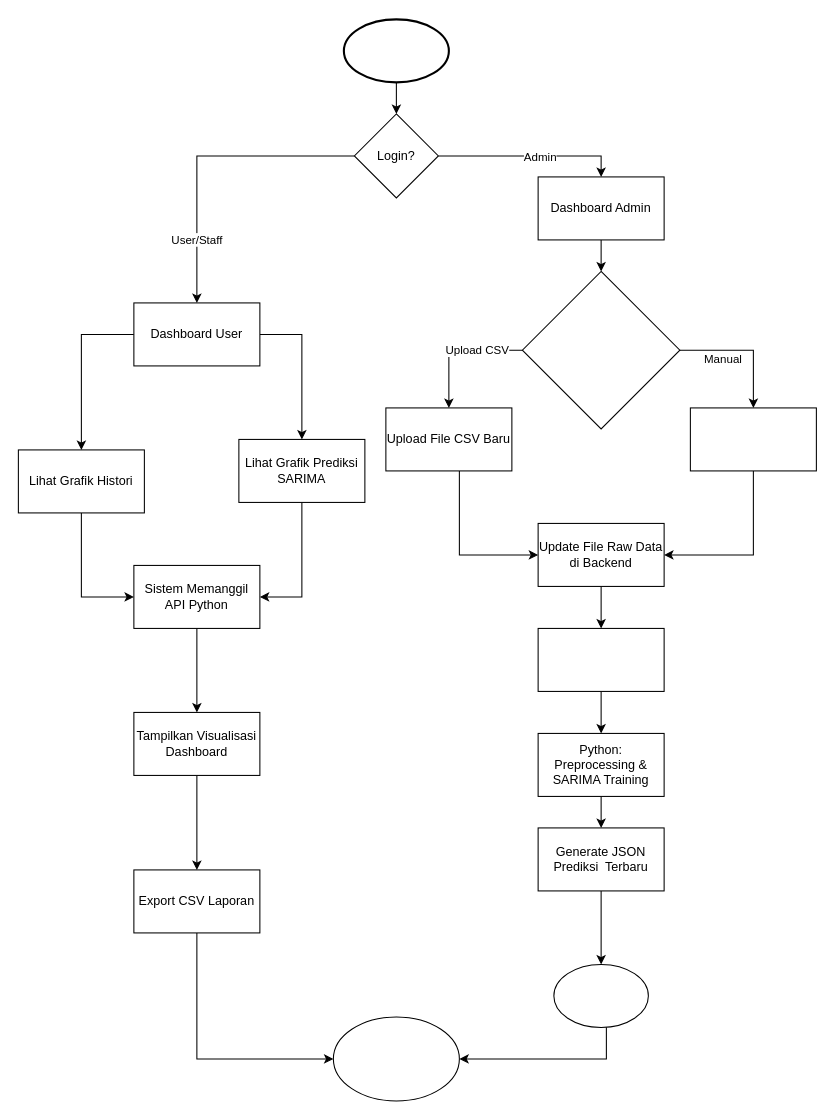
The diagram is 835 pixels wide and 1119 high, and some of its shapes have lost their labels. Here are the shapes that lost their labels. From the top down, the box of each, then its label:
(342, 18, 449, 83): START
(521, 270, 680, 429): Pilih Cara Update Data
(689, 407, 816, 471): Inpur Data Per Baris
(537, 627, 664, 691): Klik Tombol Retrain Model
(553, 963, 648, 1027): Data Terupdate
(332, 1016, 459, 1101): STOP
